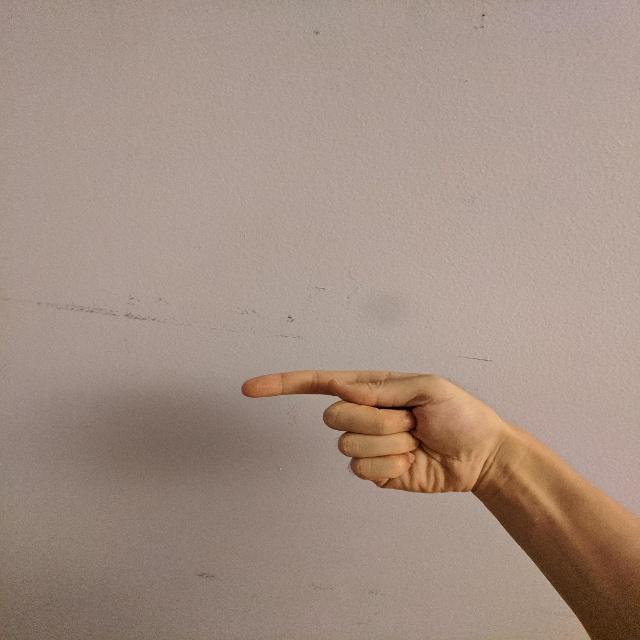G: (233, 364, 493, 494)
